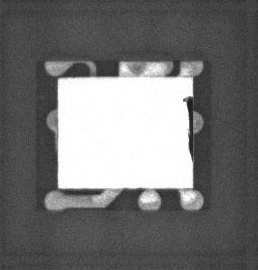DIE_BROKEN: (183, 95, 194, 161)
